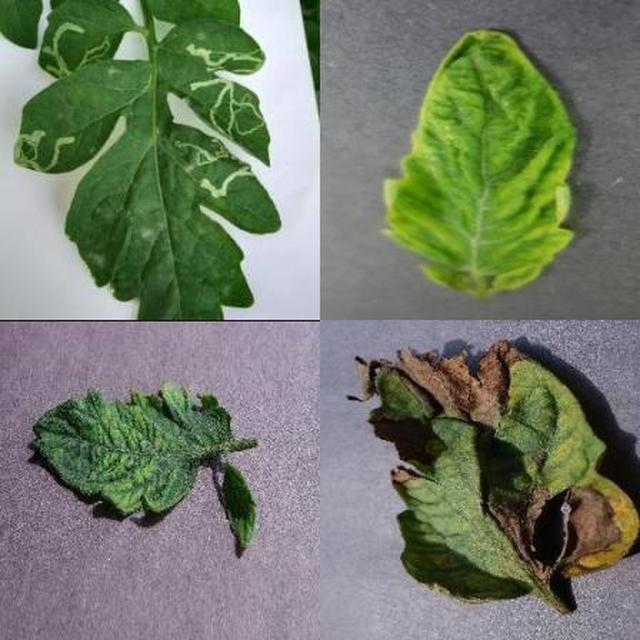Leaf Miner: (53, 56, 640, 640)
